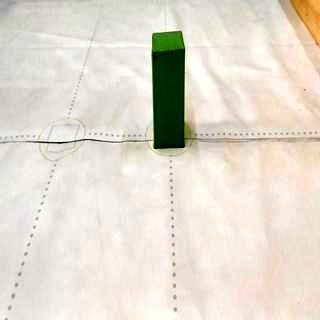greenbox: (152, 33, 184, 148)
